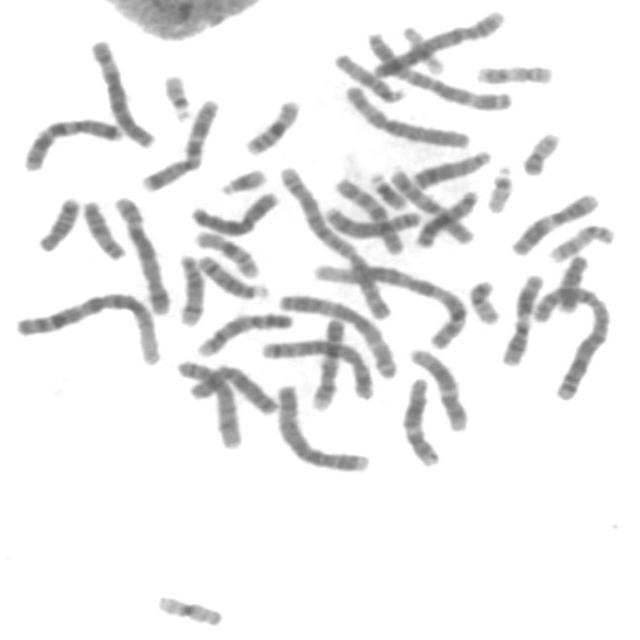A1: (308, 257, 469, 351), (10, 284, 167, 368)
A2: (274, 160, 398, 321), (529, 278, 616, 402)
A3: (363, 24, 517, 112), (274, 286, 402, 382)
B4: (365, 5, 508, 78), (270, 377, 374, 474)
B5: (107, 188, 175, 317), (256, 332, 378, 401)
C10: (384, 162, 478, 246), (329, 172, 410, 256)
C11: (506, 186, 604, 258), (497, 267, 548, 368)
C12: (405, 341, 473, 432), (398, 371, 444, 469)
C6: (339, 79, 474, 150), (84, 32, 160, 150)
C7: (136, 92, 223, 193), (18, 109, 127, 173)
C8: (171, 354, 247, 452), (319, 199, 425, 238)
C9: (192, 306, 298, 358), (305, 311, 349, 413)
D13: (409, 183, 484, 250), (407, 144, 496, 190)
D14: (192, 248, 272, 301), (172, 246, 209, 328)
D15: (329, 45, 410, 104), (76, 198, 141, 265)
E16: (240, 92, 305, 157), (189, 224, 264, 278)
E17: (545, 217, 618, 264), (471, 57, 559, 86)
E18: (32, 190, 84, 253), (554, 249, 592, 313)
F19: (150, 588, 228, 628), (398, 20, 447, 75)
F20: (518, 125, 564, 177), (464, 273, 505, 327)
G21: (364, 165, 411, 210), (215, 160, 270, 197)
G22: (157, 67, 197, 122), (482, 158, 518, 215)
X: (172, 356, 282, 416), (185, 184, 284, 238)
